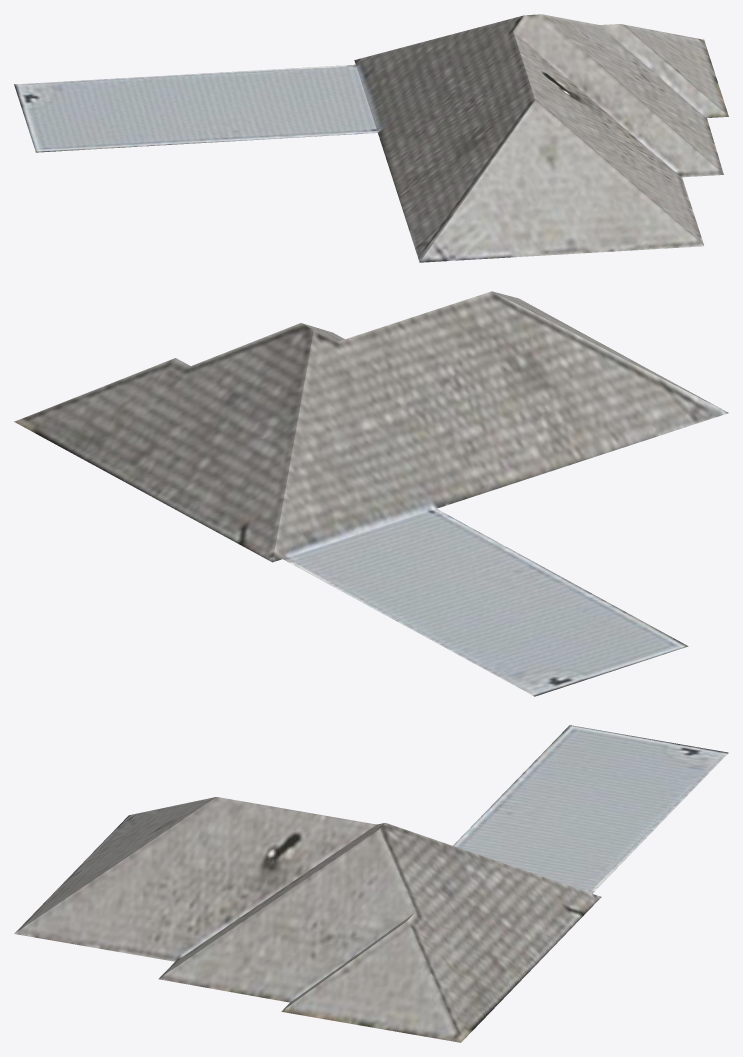
Rendered from CG10_500_044070_0028_roof.obj.
3 views of the same model, one above another, from view 1: azimuth 30°, elevation 25°; view 2: azimuth 150°, elevation 25°; view 3: azimuth 270°, elevation 25° (orthographic). The views are drawn at different scales.
Visible parts, largest first — view 1: CG10_500_044070_0028_roof; view 2: CG10_500_044070_0028_roof; view 3: CG10_500_044070_0028_roof.
Boxes of the visible parts, x1,y1,x2,y2 form: CG10_500_044070_0028_roof: (14, 14, 728, 262); CG10_500_044070_0028_roof: (14, 291, 728, 696); CG10_500_044070_0028_roof: (14, 725, 728, 1042).
Size of the model in its own units: 437 by 70 by 416.
Materials: 1 (1 with a texture image).
